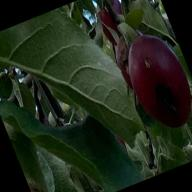Apples: (117, 26, 192, 135), (92, 0, 134, 44), (109, 34, 142, 89)
